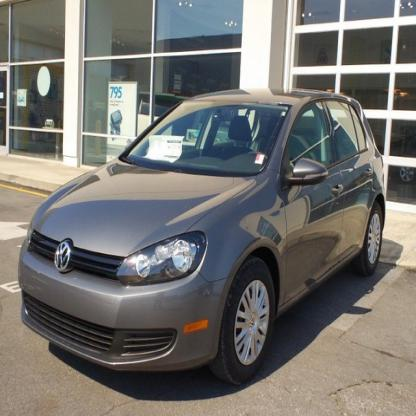Vehicle: (18, 90, 382, 387)
